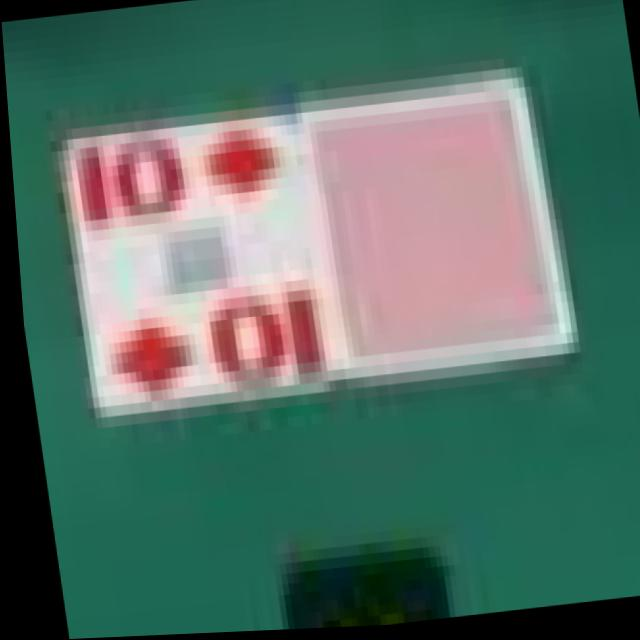Card-10: (60, 119, 335, 420)
